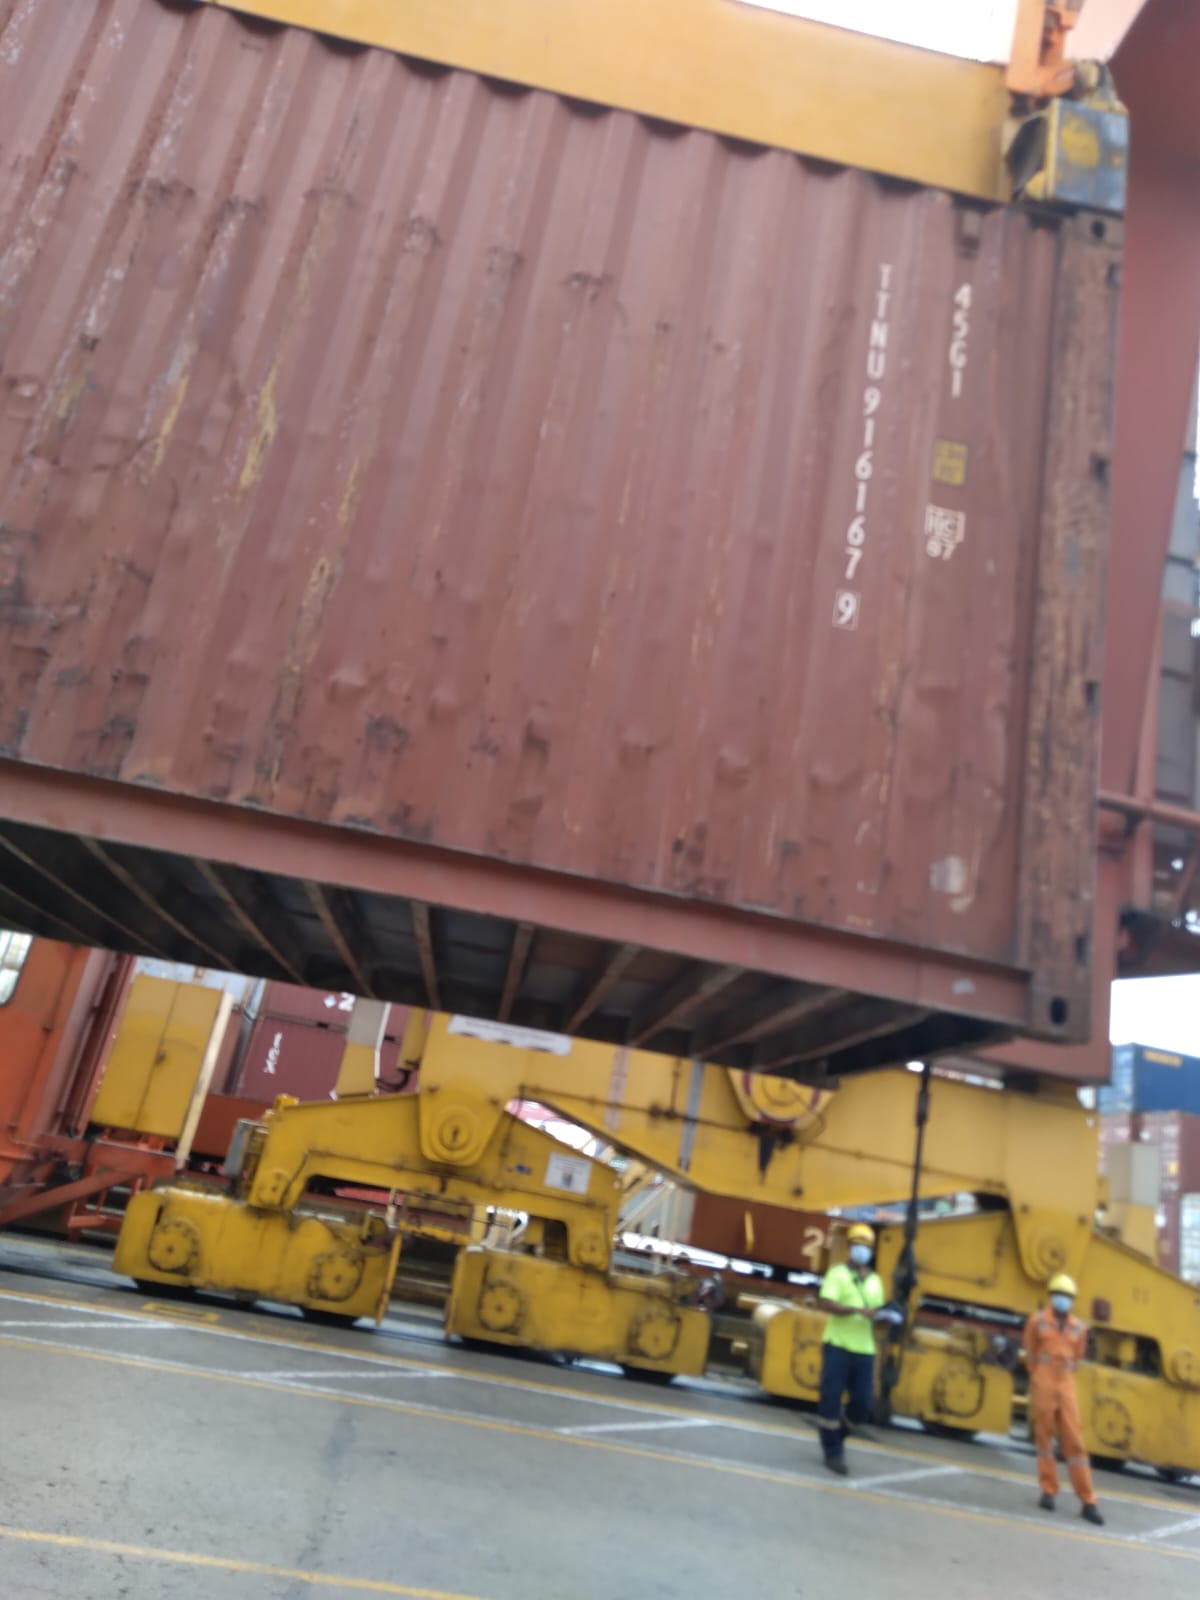moderate: (16, 135, 863, 803)
